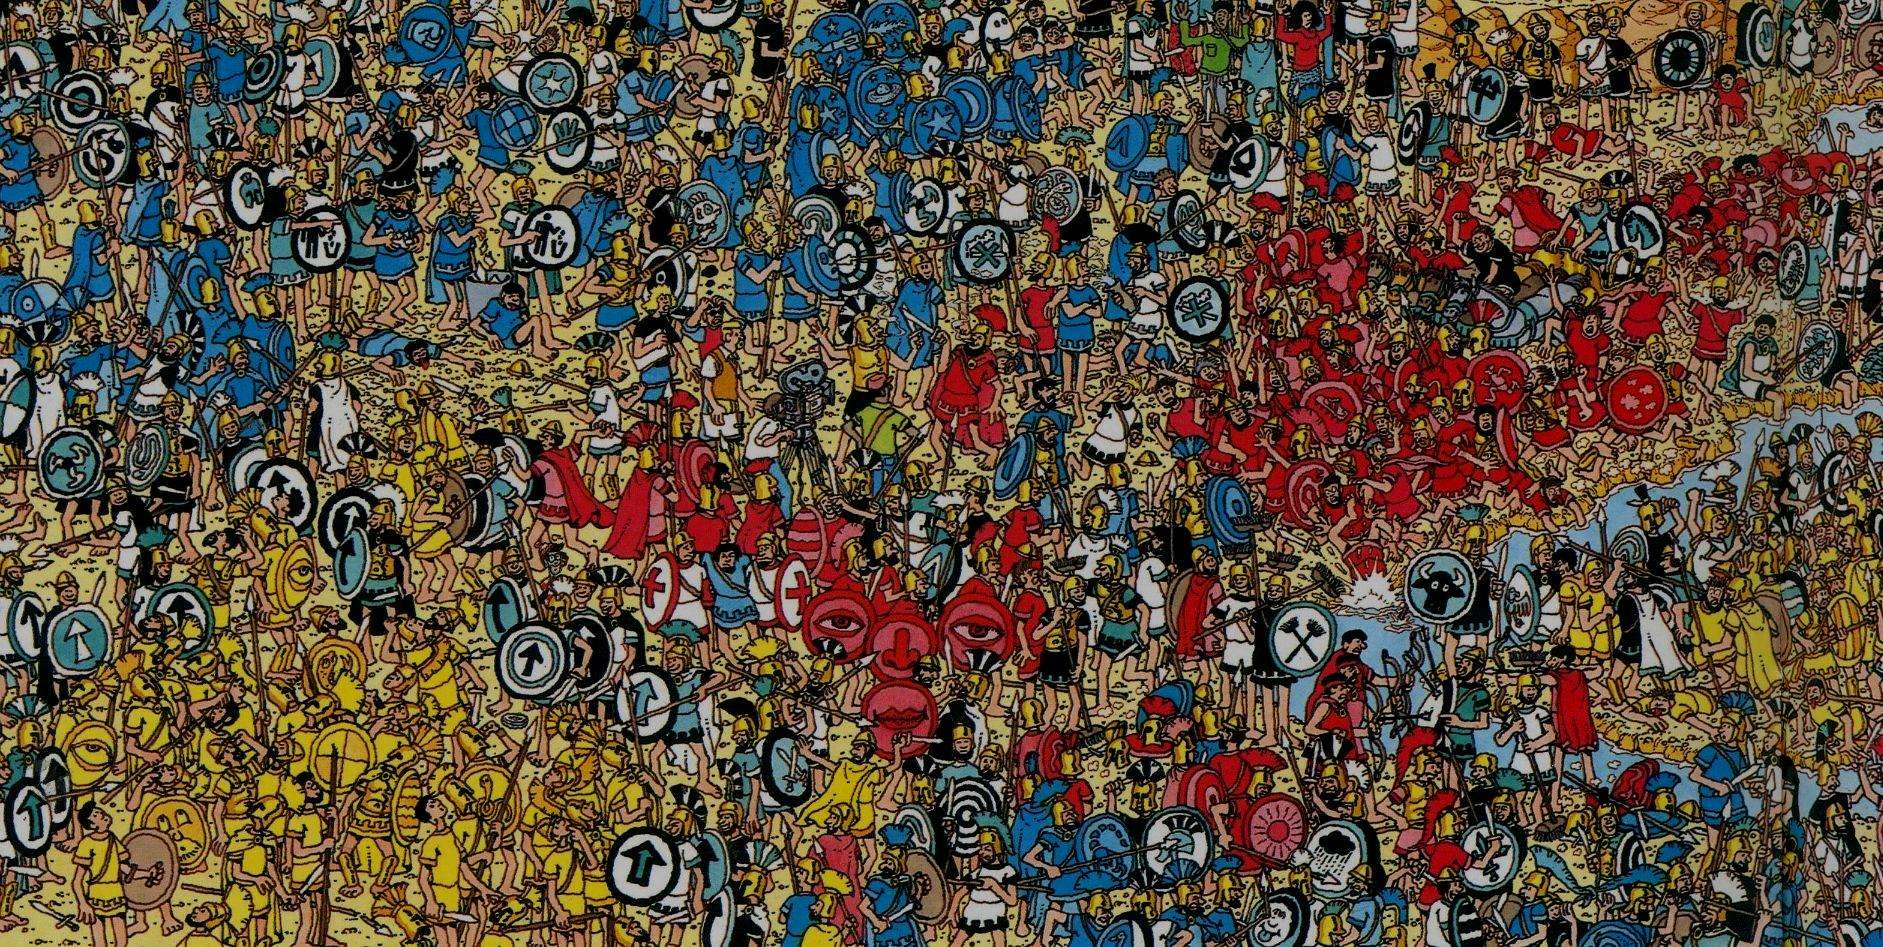waldos: (529, 534, 569, 602)
